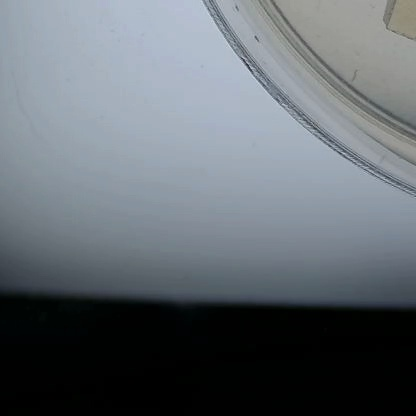worm: (349, 65, 361, 84)
